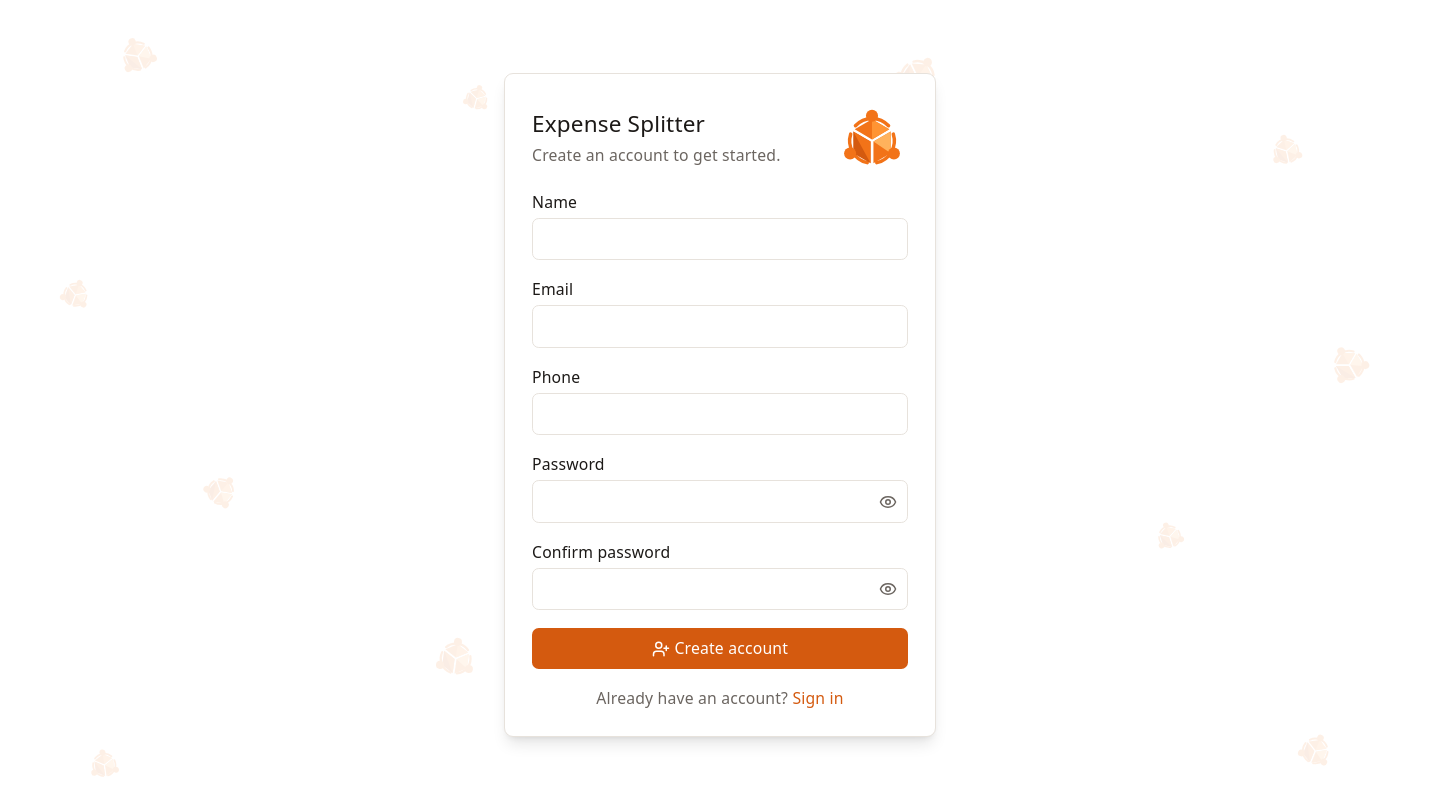
RegisterPage › shows an error when the passwords do not match
Type "New Friend" into the field labelled "Name" at (720, 239), box [532, 218, 908, 260]
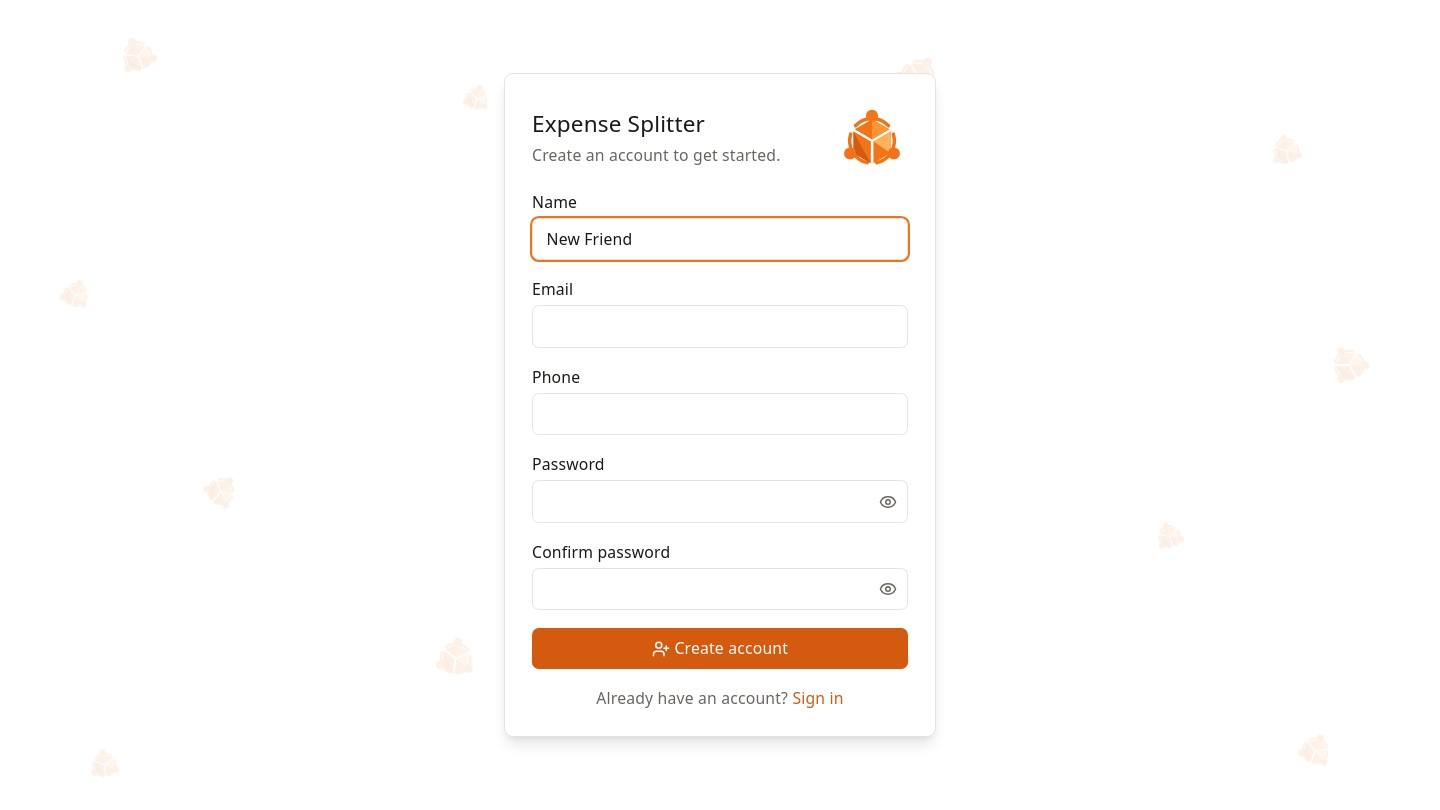
Type "new.friend@example.com" into the field labelled "Email" at (720, 327), box [532, 305, 908, 348]
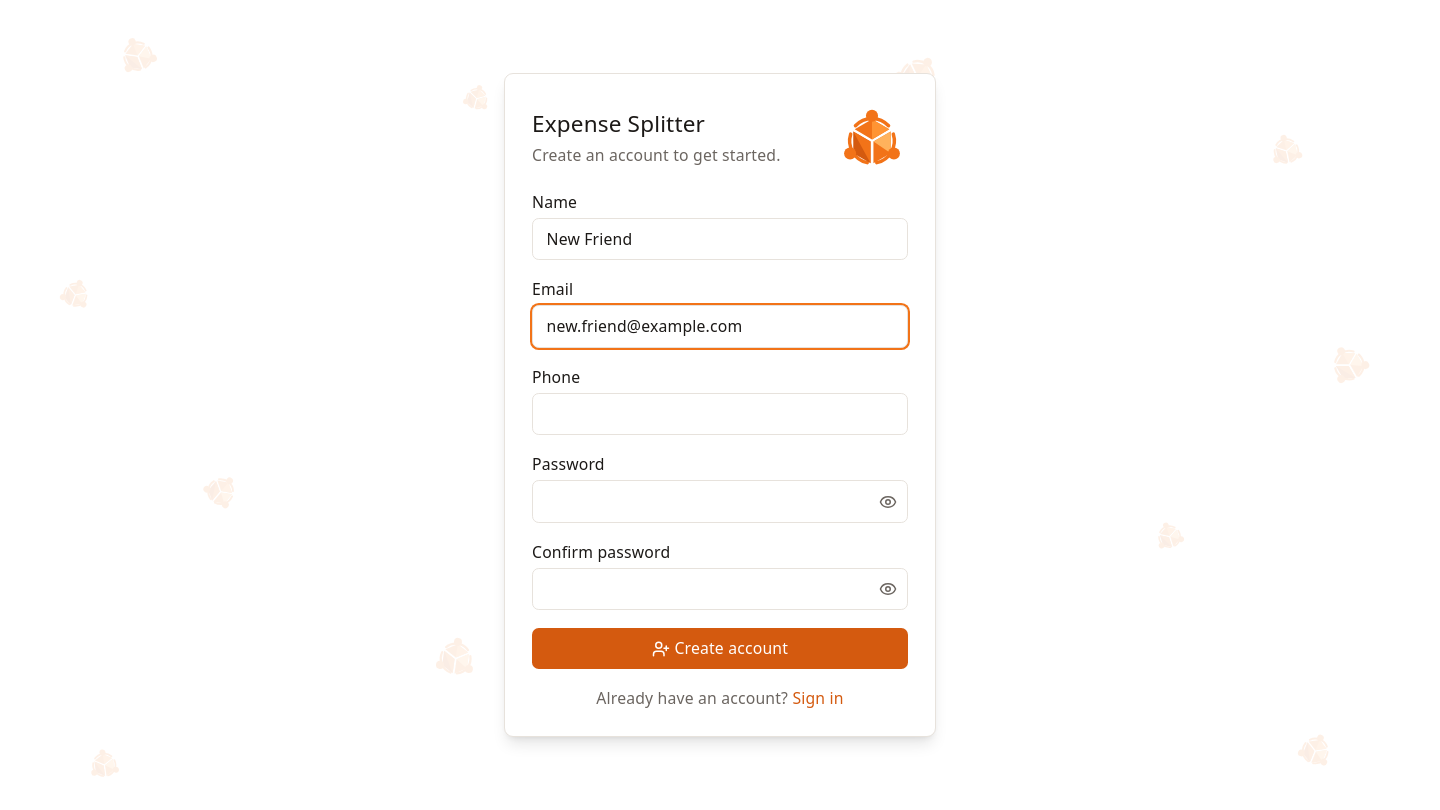
Type "correct-horse-battery-staple" into the password field labelled "Password" at (720, 502), box [532, 480, 908, 523]
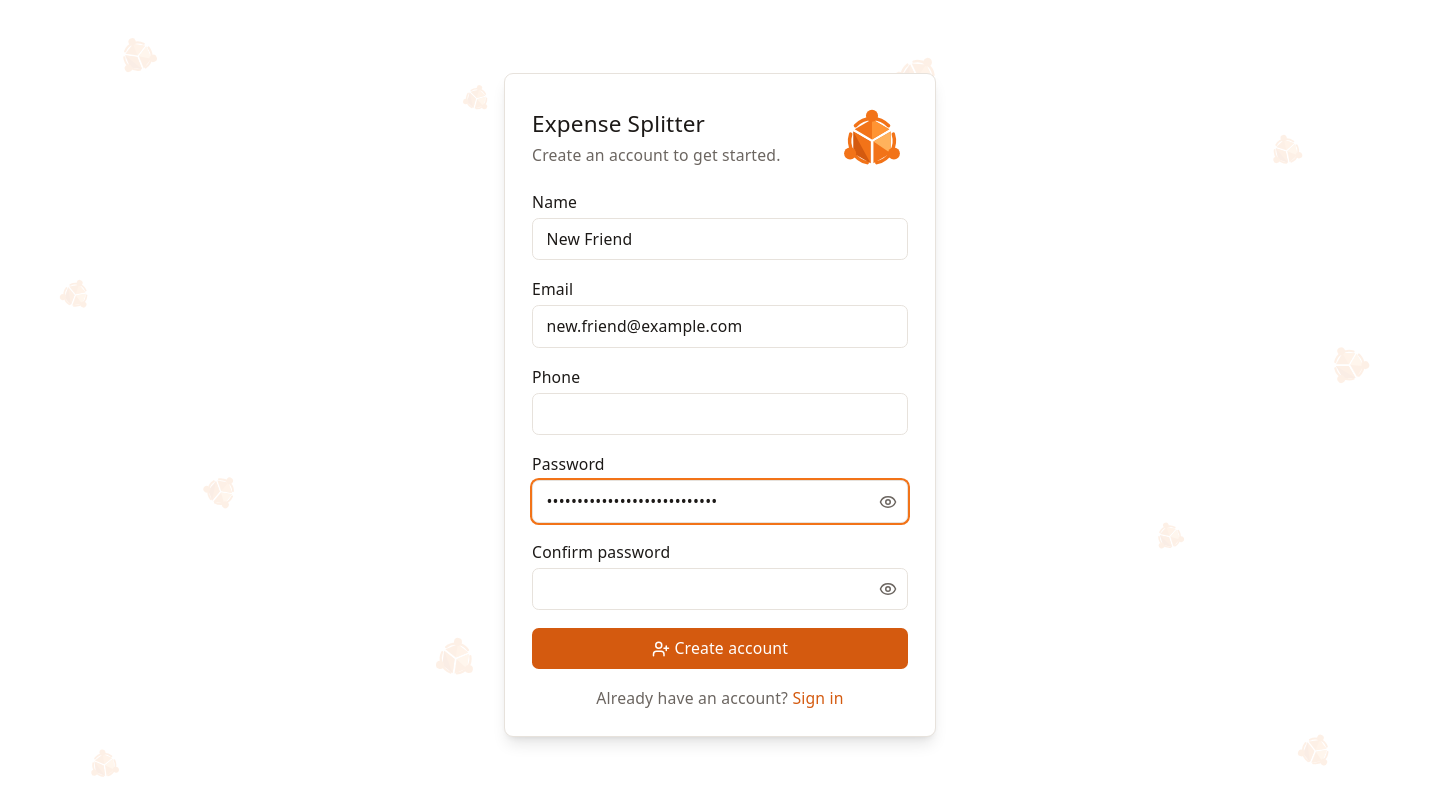
Type "a-different-password" into the password field labelled "Confirm password" at (720, 589), box [532, 568, 908, 610]
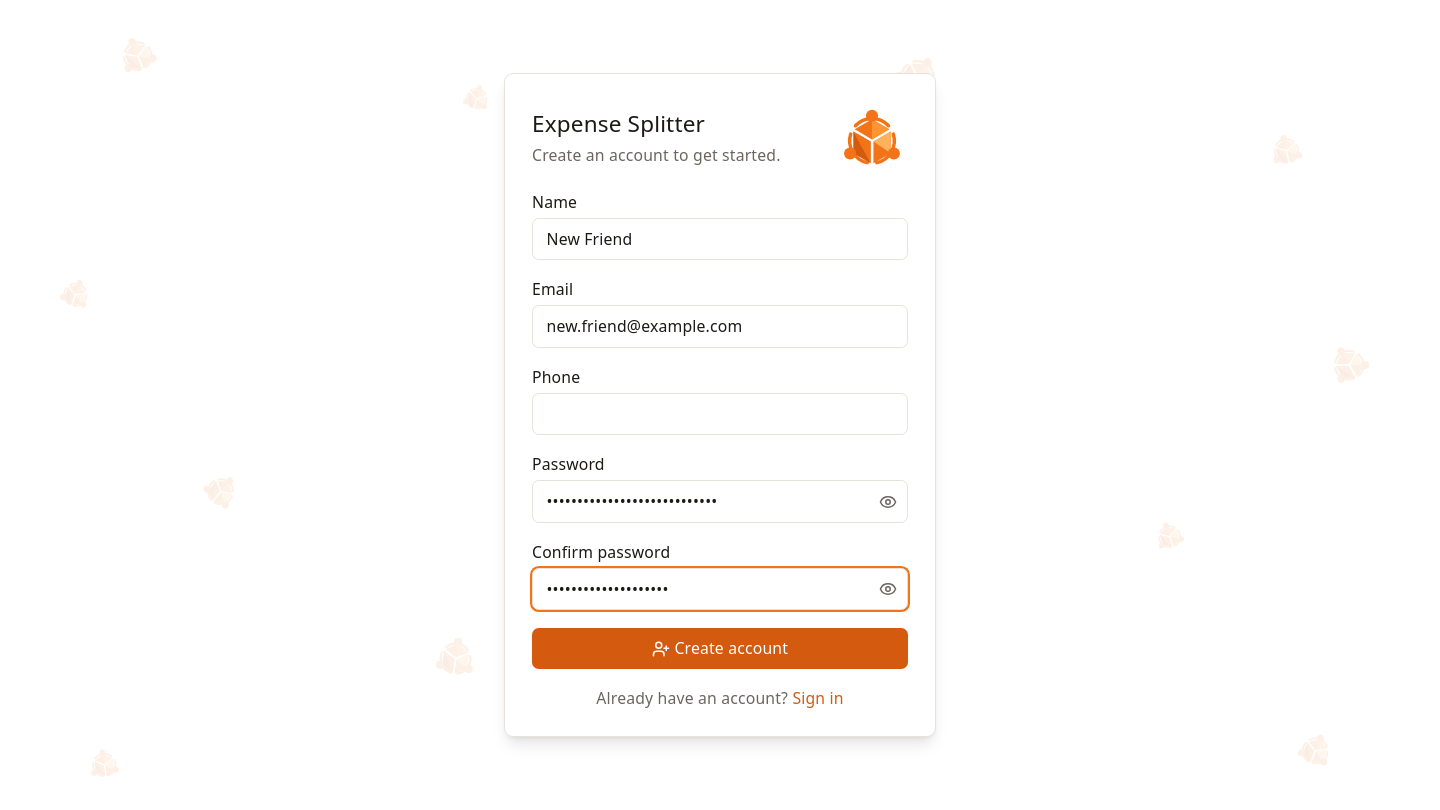
Click the button "Create account" at (720, 649), box [532, 628, 908, 669]
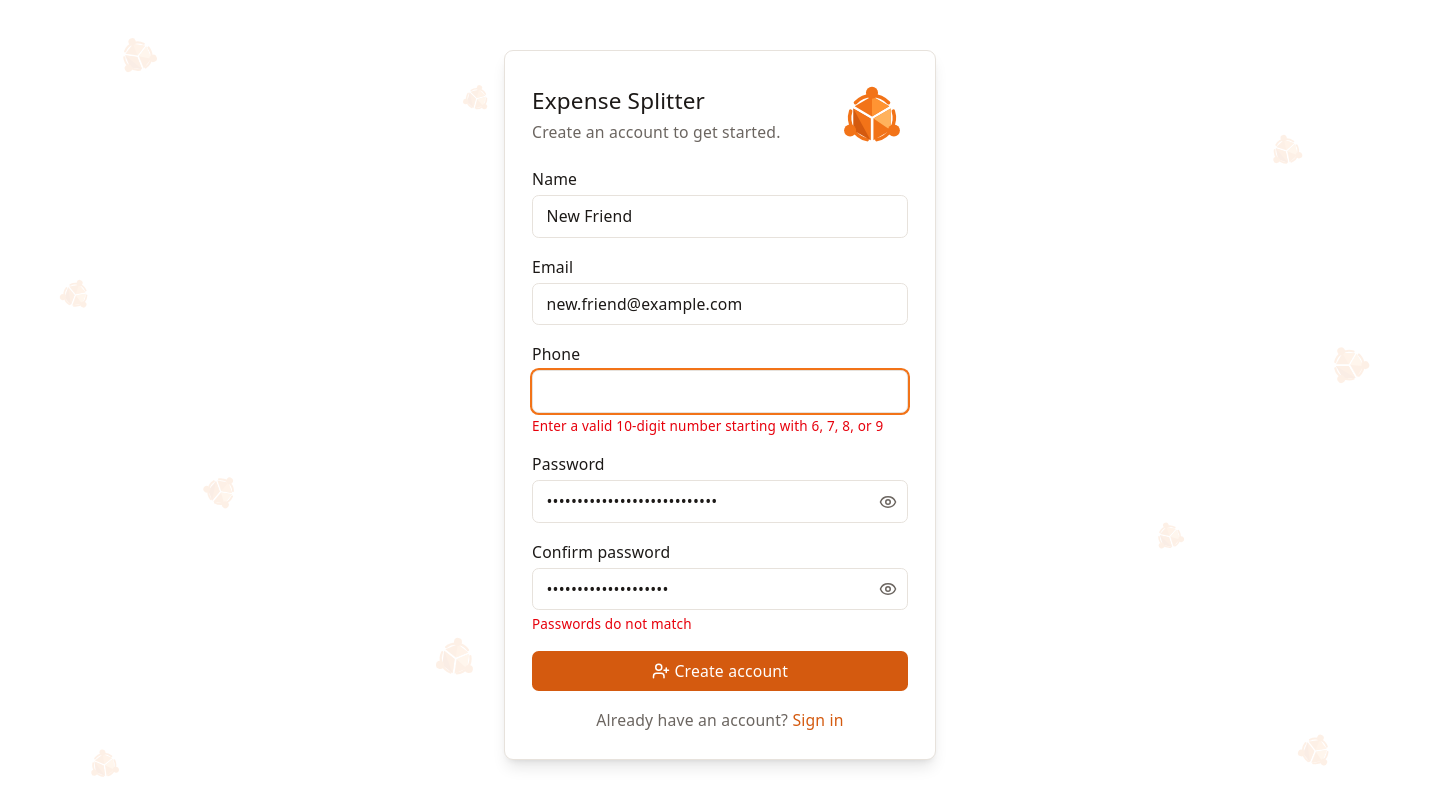
Now the text "Passwords do not match" is shown, box [532, 615, 692, 633]
